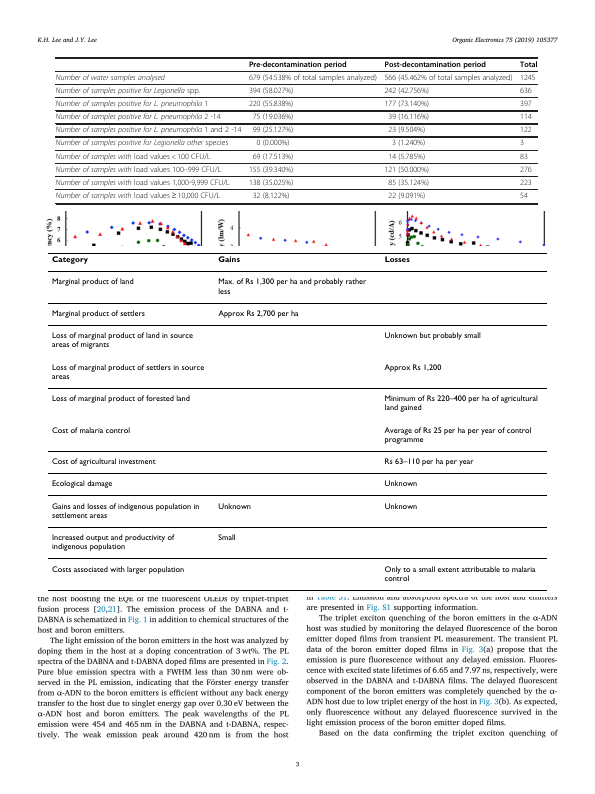borderless: (47, 251, 547, 590), (55, 56, 537, 203)
cell: (50, 363, 205, 382), (383, 394, 538, 413), (383, 565, 536, 584), (217, 278, 367, 297), (50, 502, 200, 521), (383, 426, 532, 445), (50, 331, 193, 350), (50, 533, 175, 552), (55, 178, 231, 188), (55, 126, 242, 135), (55, 165, 222, 175), (55, 112, 221, 122), (55, 191, 221, 201), (55, 139, 229, 148), (55, 99, 209, 109), (55, 86, 201, 96), (55, 152, 211, 161), (50, 394, 190, 404), (50, 565, 185, 575), (248, 73, 378, 83), (383, 73, 513, 83), (55, 73, 166, 83), (50, 457, 156, 467), (383, 331, 481, 341), (50, 309, 145, 319), (383, 60, 487, 69), (383, 457, 474, 467), (248, 60, 347, 69), (217, 309, 299, 319), (50, 426, 131, 436), (50, 278, 134, 287), (383, 363, 442, 373), (50, 480, 113, 489), (383, 86, 430, 96), (383, 99, 430, 109), (383, 165, 430, 175), (248, 86, 294, 96), (248, 99, 294, 109), (248, 165, 294, 175), (248, 178, 294, 188), (387, 112, 430, 122), (387, 178, 430, 188), (252, 112, 294, 122), (387, 191, 426, 201), (252, 191, 290, 201), (252, 126, 294, 135), (252, 152, 294, 161), (387, 126, 426, 135), (387, 152, 426, 161), (383, 502, 418, 512), (50, 256, 88, 265), (217, 502, 251, 512), (255, 139, 290, 148), (391, 139, 426, 148), (383, 480, 418, 489), (383, 256, 410, 265), (217, 256, 240, 265), (217, 533, 236, 543), (519, 60, 538, 69), (519, 73, 536, 83), (519, 86, 533, 96), (519, 99, 533, 109), (519, 112, 533, 122), (519, 165, 533, 175), (519, 178, 533, 188), (519, 126, 533, 135), (519, 191, 529, 201), (519, 152, 529, 161), (519, 139, 525, 148)
